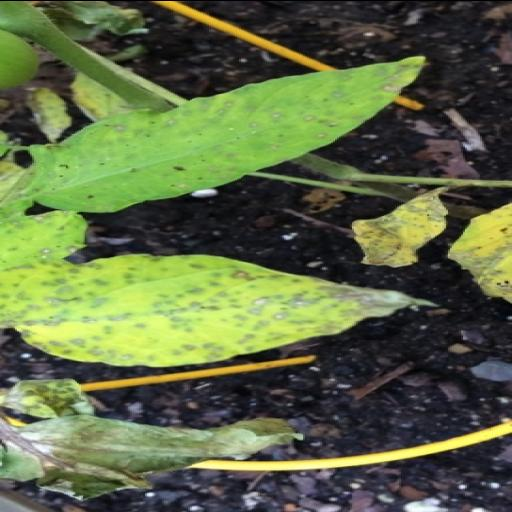disease_tomato: (17, 52, 435, 215), (16, 252, 444, 368), (348, 186, 457, 270)
